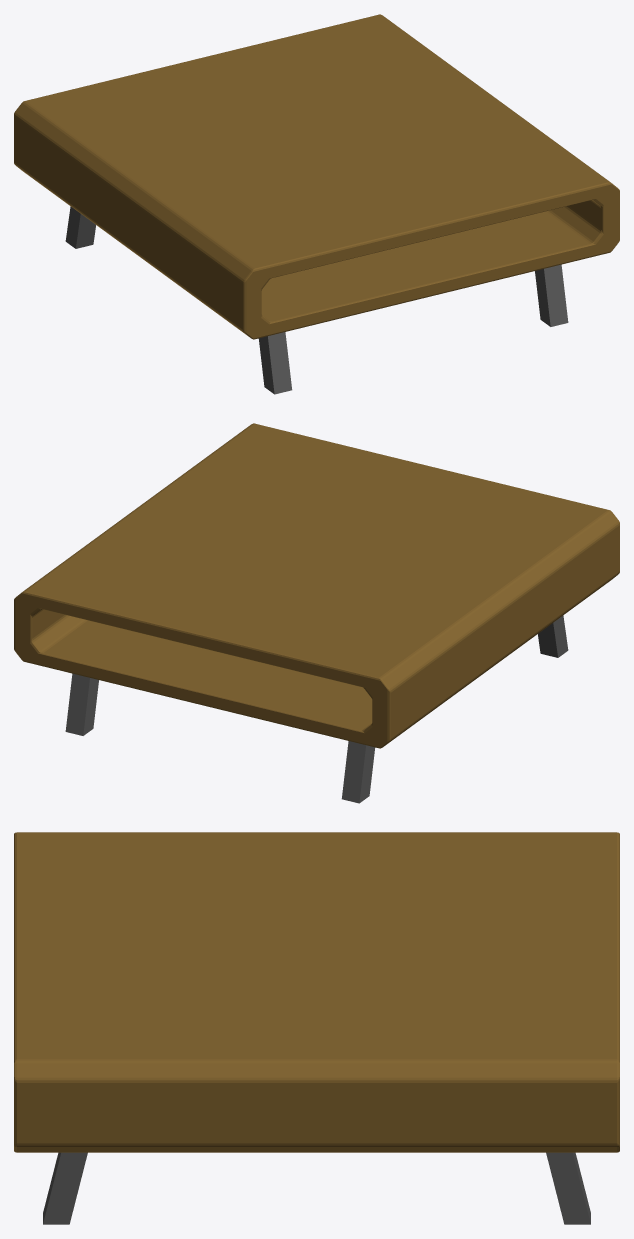
The model's file is PTable.glb.
3 views of the same model, one above another, from view 1: azimuth 30°, elevation 25°; view 2: azimuth 150°, elevation 25°; view 3: azimuth 270°, elevation 25° (orthographic). The views are drawn at different scales.
Visible parts, largest first — view 1: Cube.034, Cube.035; view 2: Cube.034, Cube.035; view 3: Cube.034, Cube.035.
Part boxes in pixels (x1,y1,x2,y2): Cube.034: (14, 14, 619, 339); Cube.035: (65, 206, 568, 394); Cube.034: (14, 423, 619, 748); Cube.035: (65, 615, 568, 803); Cube.034: (14, 832, 619, 1152); Cube.035: (43, 1152, 590, 1224).
Size of the model in its own units: 1.01 by 0.3588 by 1.07.
